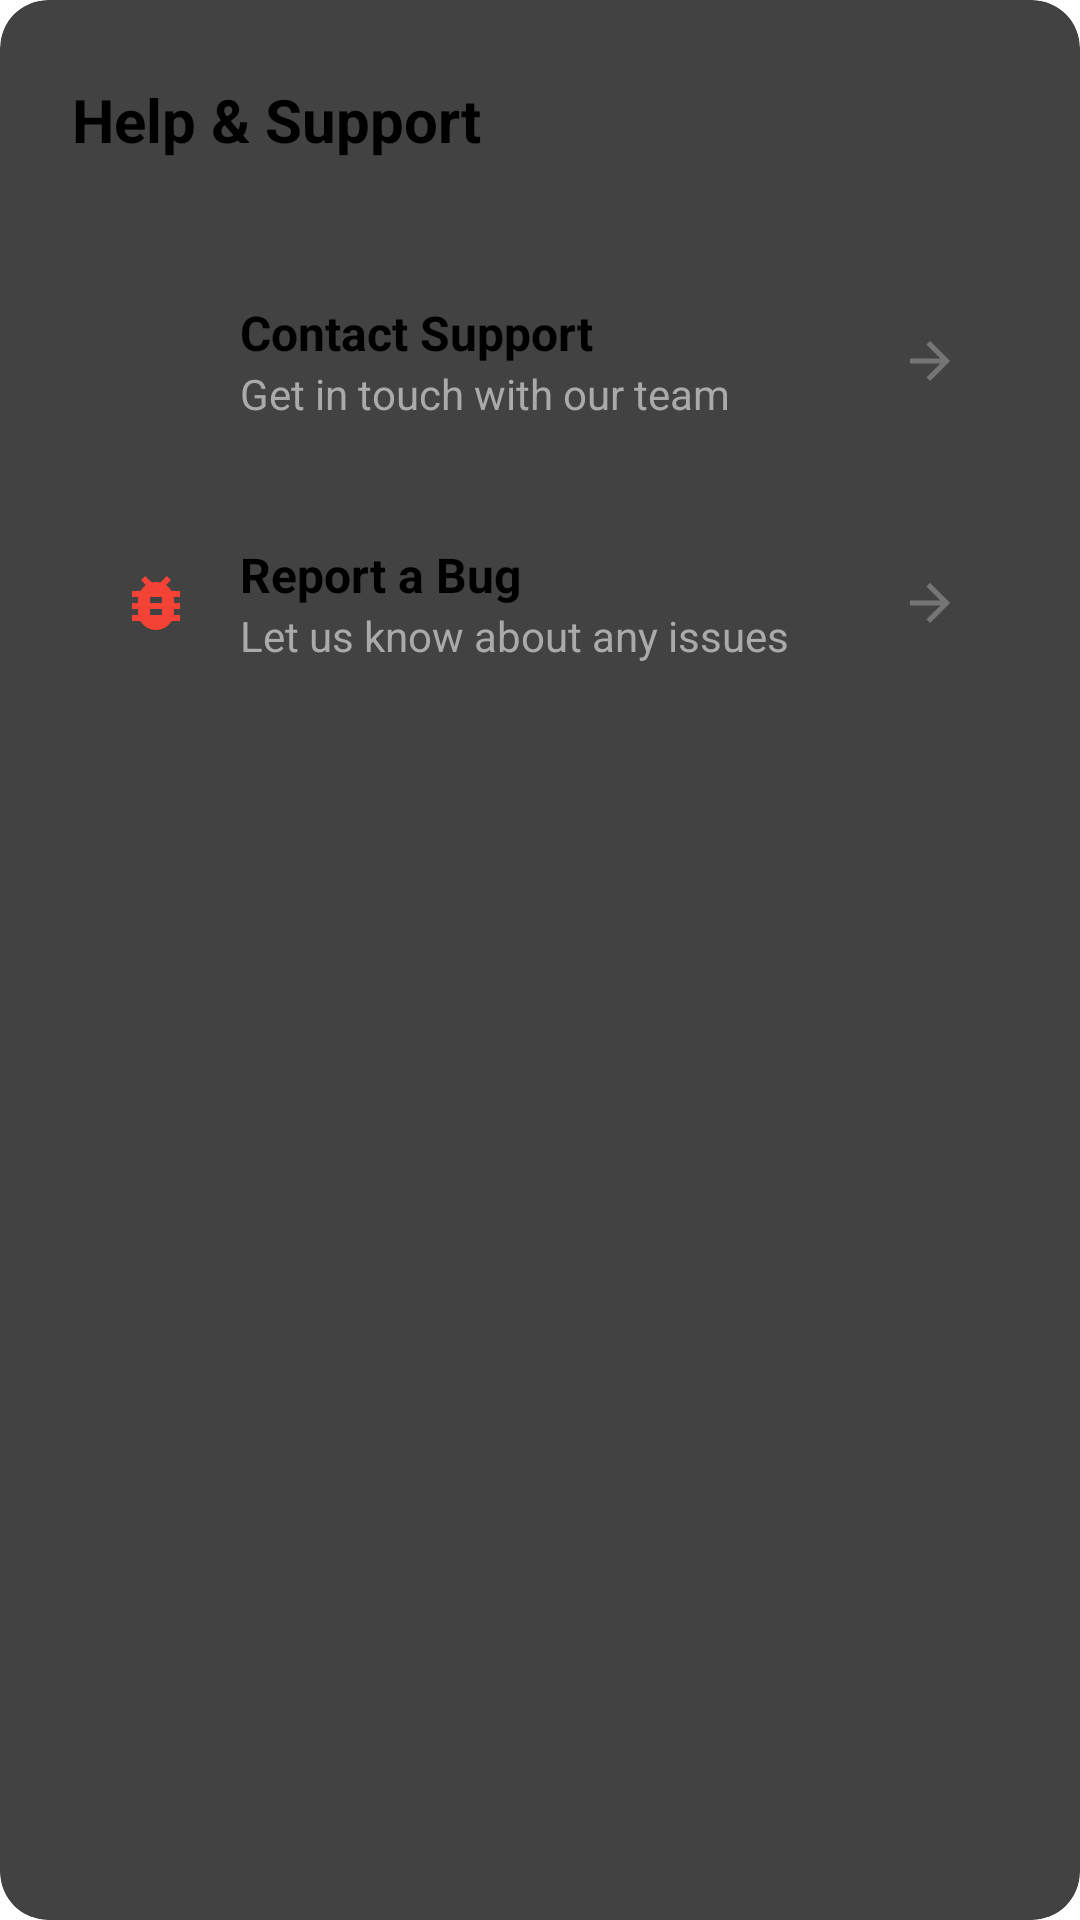

Icon click points for this 1080 x 1920 phone screenshot, format point (x, y):
arrow forward: point (930, 361), point (930, 603)
